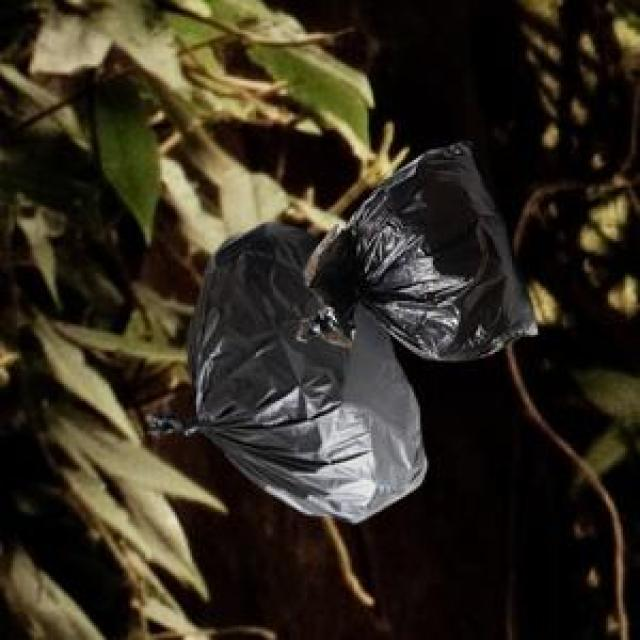waste: (191, 144, 535, 522)
